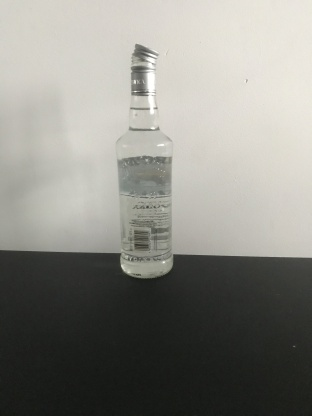nakretka: (129, 41, 160, 96)
